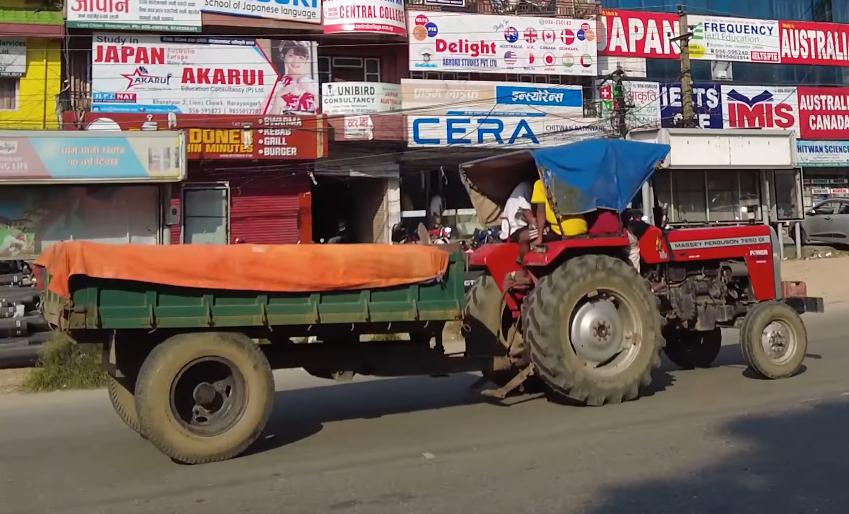car: (791, 196, 849, 250)
tractor: (451, 130, 821, 401)
